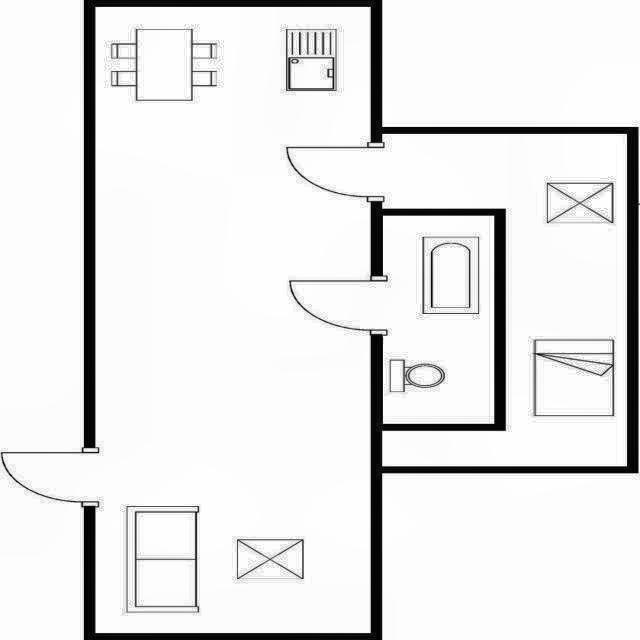room: (96, 7, 370, 632), (382, 133, 626, 468), (384, 215, 494, 424)
